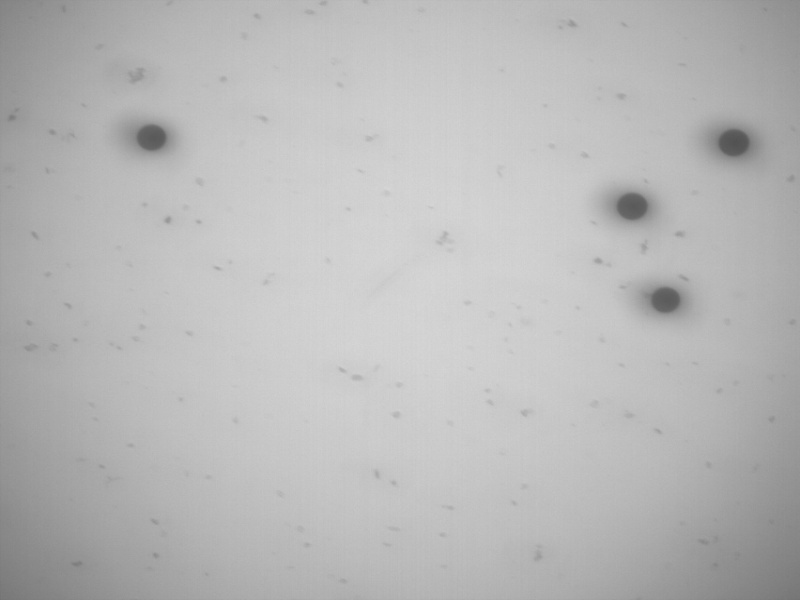bead: (617, 190, 649, 222), (135, 122, 168, 153), (718, 128, 750, 157), (649, 286, 682, 314)
